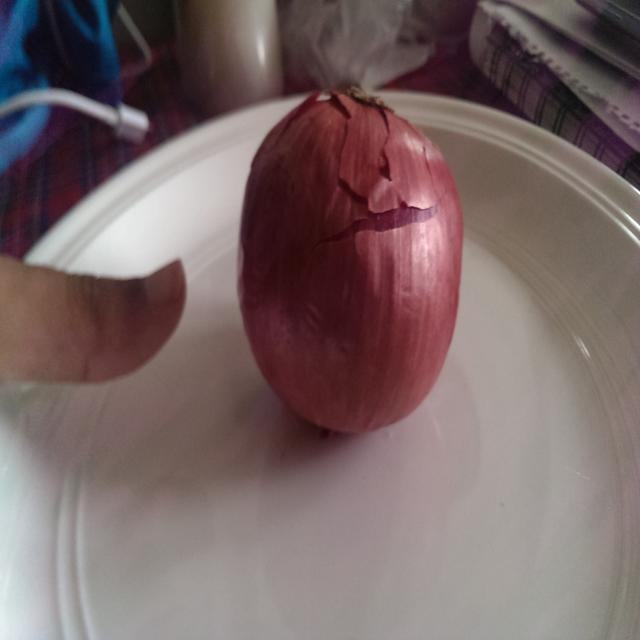onion: (236, 84, 464, 436)
